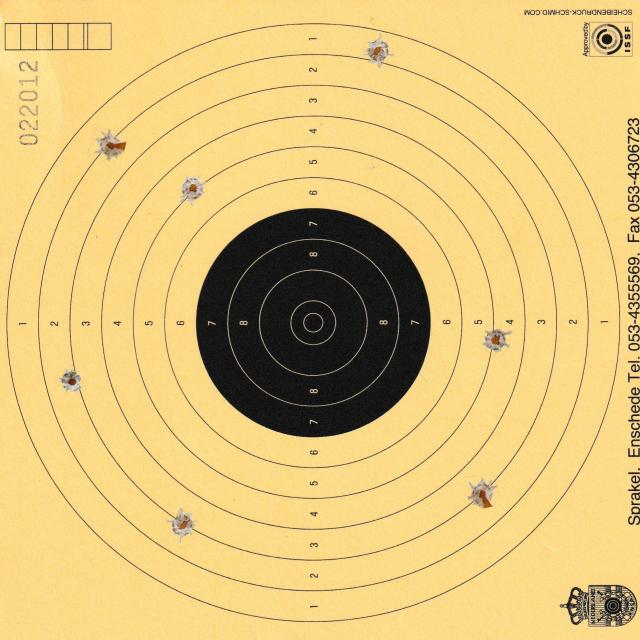3: (366, 35, 392, 67)
4: (165, 509, 195, 542), (470, 479, 500, 511), (96, 131, 127, 159), (57, 368, 87, 392)
5: (482, 328, 514, 354)
6: (182, 176, 206, 204)
Black Contour: (195, 207, 432, 438)
Target: (3, 19, 624, 623)
